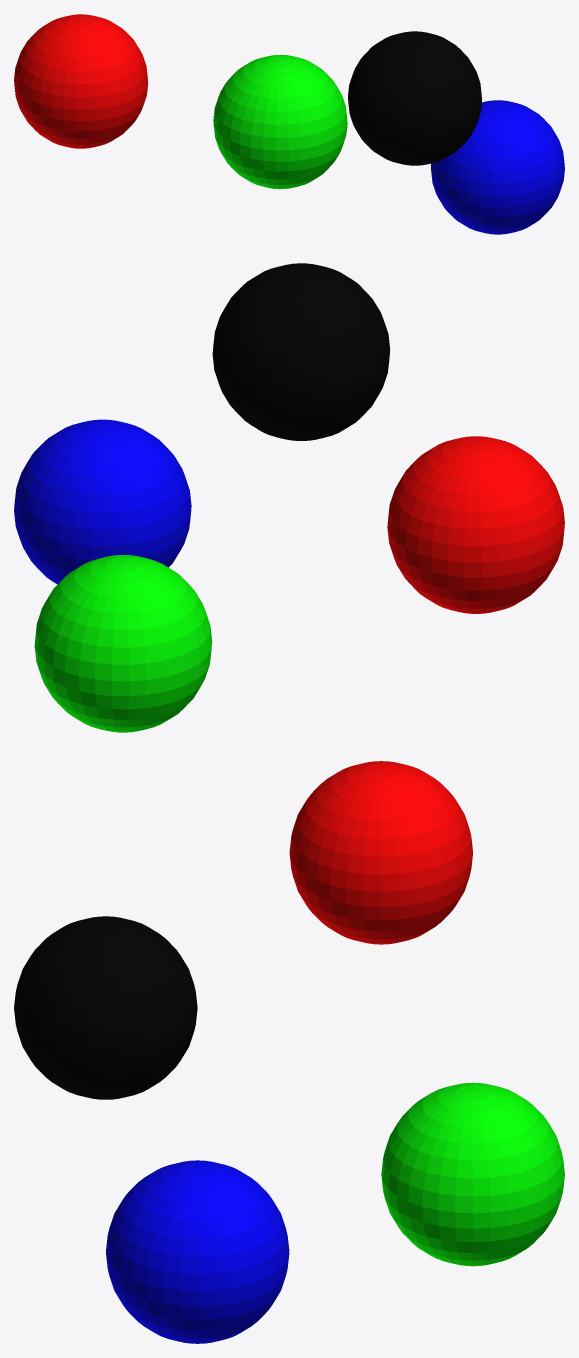
File: balls.dae
3 renders of one model, top to bottom at view 1: azimuth 30°, elevation 25°; view 2: azimuth 150°, elevation 25°; view 3: azimuth 270°, elevation 25°, orthographic. The views are drawn at different scales.
Parts seen in each view (by area): view 1: Sphere.002, Sphere.003, Sphere, Sphere.001; view 2: Sphere, Sphere.003, Sphere.002, Sphere.001; view 3: Sphere.002, Sphere.001, Sphere.003, Sphere.
Part boxes in pixels (x1,y1,x2,y2): Sphere.002: (348,31,481,165); Sphere.003: (14,14,148,148); Sphere: (213,55,347,189); Sphere.001: (430,100,564,234); Sphere: (34,555,212,732); Sphere.003: (387,436,564,613); Sphere.002: (212,263,390,440); Sphere.001: (14,419,191,584); Sphere.002: (14,916,197,1099); Sphere.001: (106,1160,289,1343); Sphere.003: (289,761,472,944); Sphere: (381,1082,564,1266).
Bounding box in the file's own units: 4 × 3 × 2.
